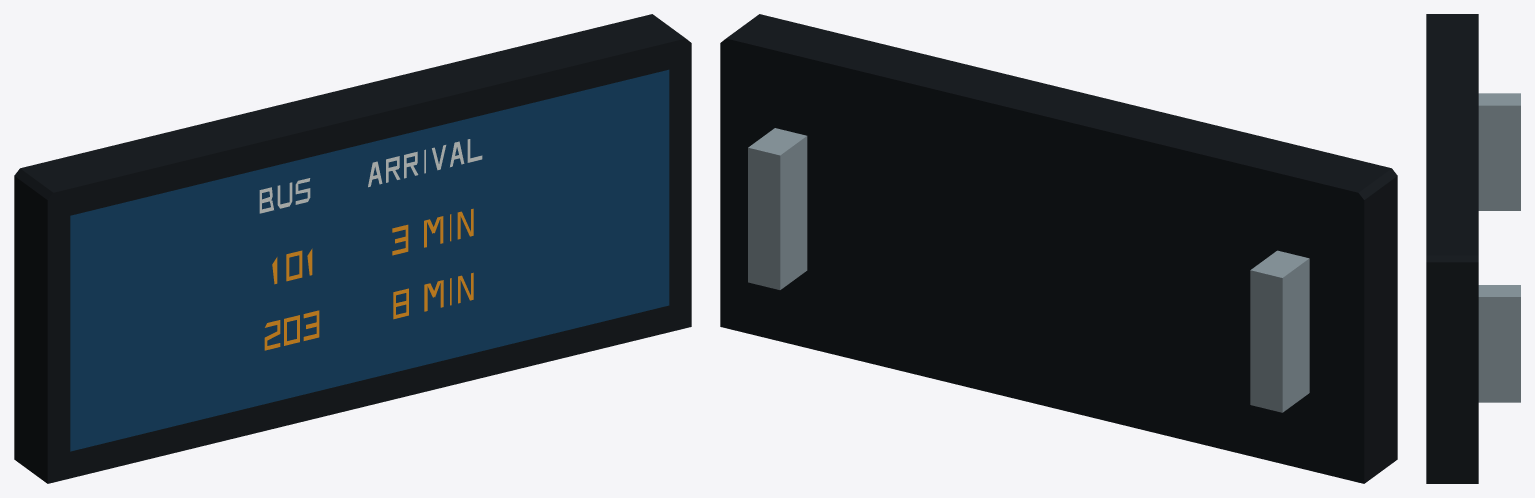
File: sg-arrival-display.glb
3 renders of one model, left to right at view 1: azimuth 30°, elevation 25°; view 2: azimuth 150°, elevation 25°; view 3: azimuth 270°, elevation 25°, orthographic. The views are drawn at different scales.
Visible parts, largest first — view 1: body; view 2: body; view 3: body.
Part boxes in pixels (left/top/right/bottom): body: left=14, top=14, right=691, bottom=483; body: left=720, top=14, right=1397, bottom=483; body: left=1426, top=14, right=1520, bottom=483.
Bounding box in the file's own units: 2 × 0.86 × 0.3262.
